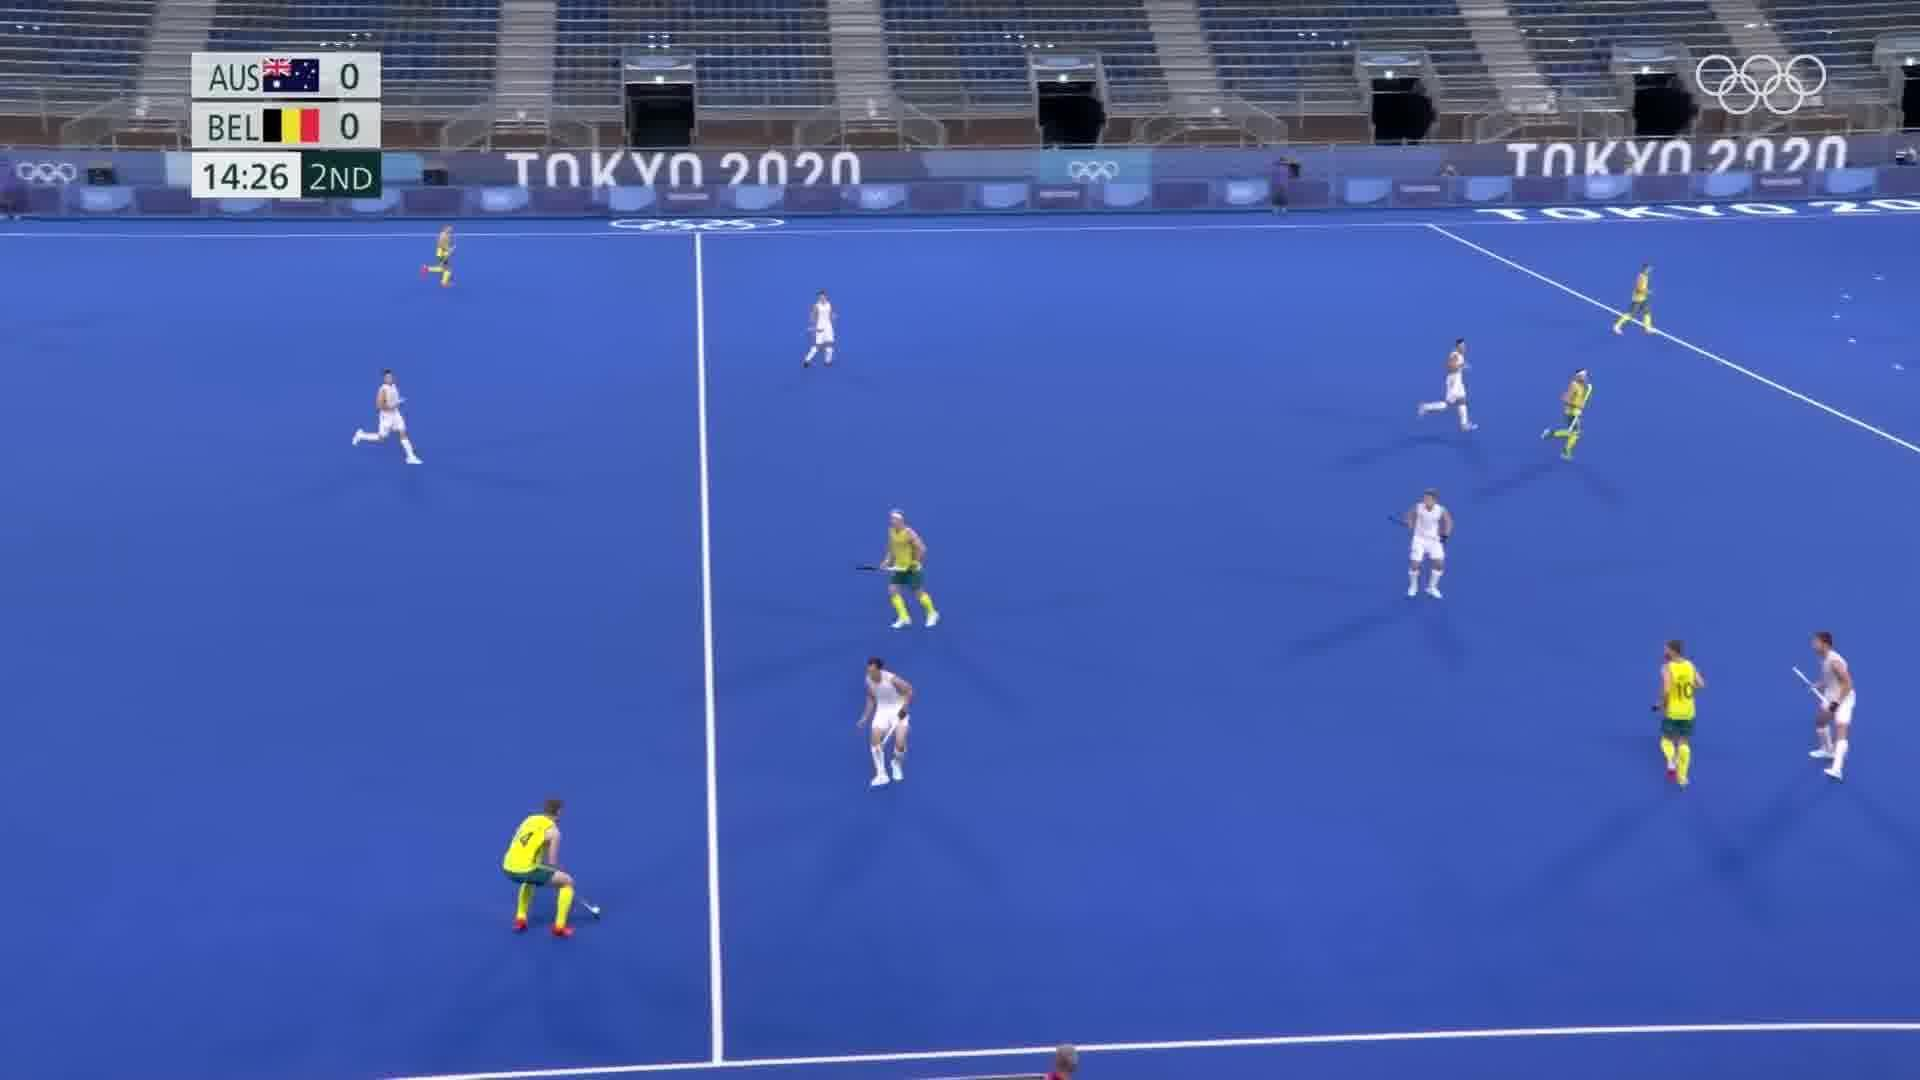ball: (587, 902, 607, 918)
